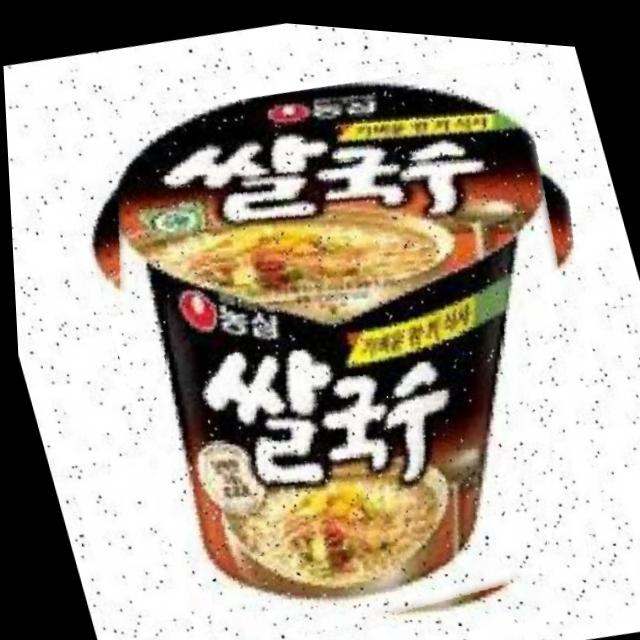Miscellaneous: (50, 17, 640, 640)
